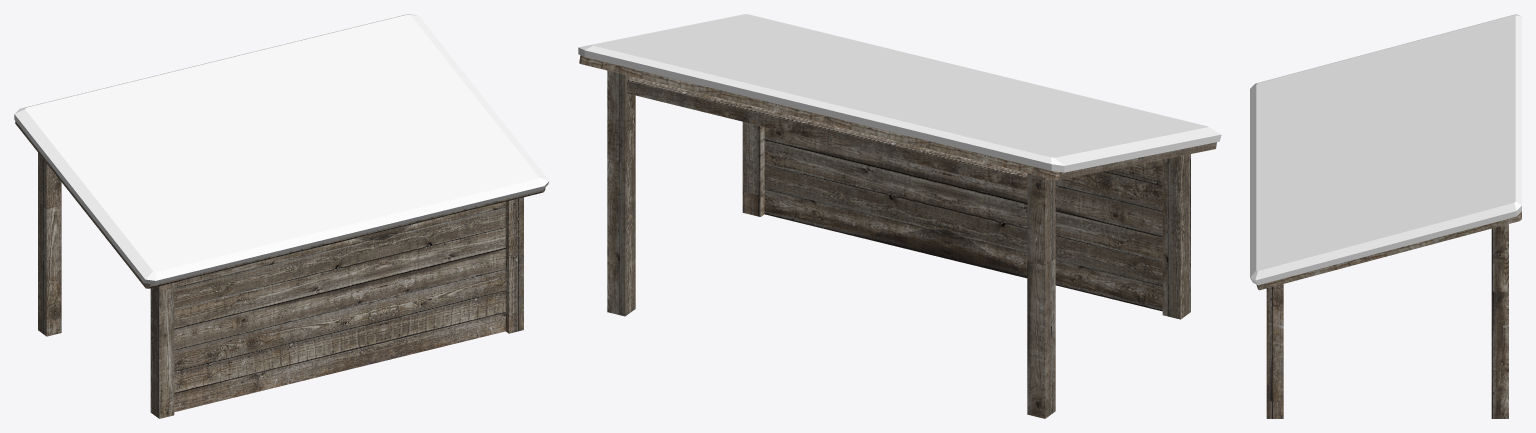
Rendered from Canopy.fbx.
3 views of the same model, side by side, from view 1: azimuth 30°, elevation 25°; view 2: azimuth 150°, elevation 25°; view 3: azimuth 270°, elevation 25° (orthographic). The views are drawn at different scales.
Visible parts, largest first — view 1: Snow, Canopy; view 2: Canopy, Snow; view 3: Snow, Canopy.
Boxes of the visible parts, <box> form: Snow: <box>14,14,549,284</box>; Canopy: <box>15,121,545,418</box>; Canopy: <box>579,55,1216,418</box>; Snow: <box>578,14,1221,172</box>; Snow: <box>1250,14,1521,285</box>; Canopy: <box>1256,211,1521,418</box>.
Bounding box in the file's own units: 405 × 213 × 236.
